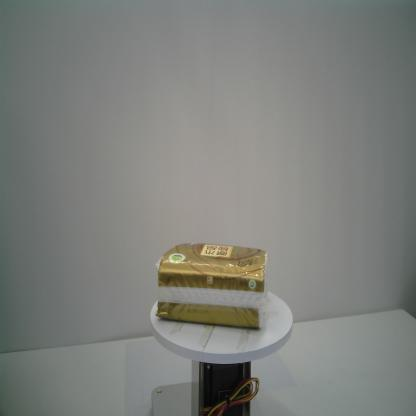Tissue: (155, 243, 269, 329)
